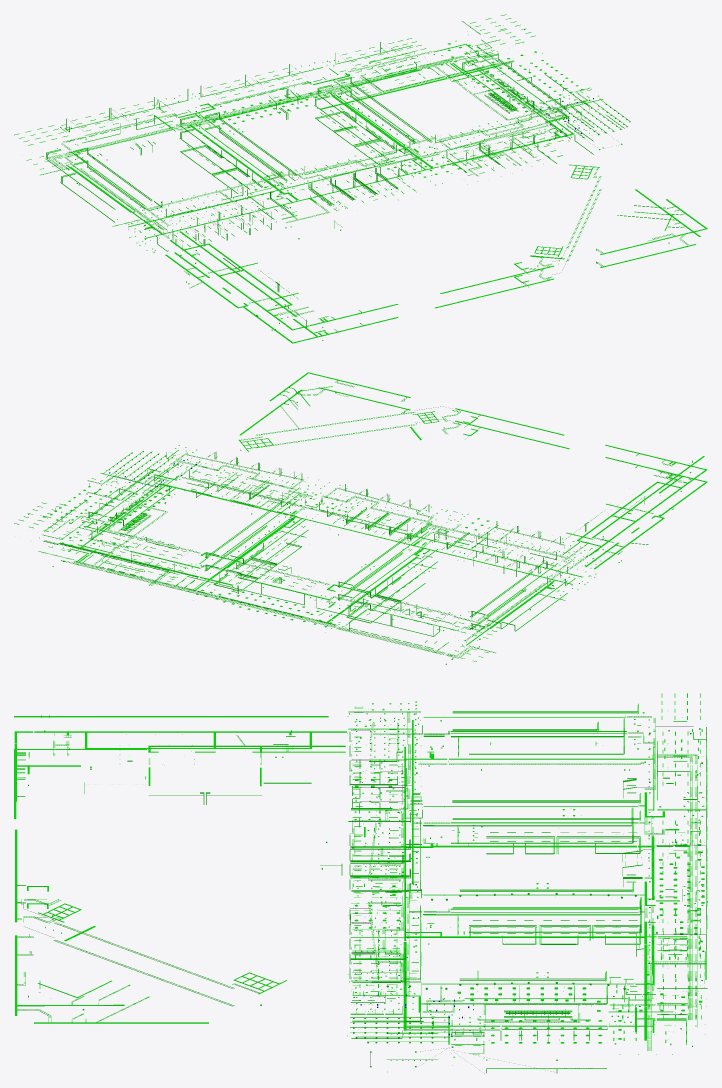
The picture shows the model from 3 angles, top to bottom: view 1: azimuth 30°, elevation 25°; view 2: azimuth 150°, elevation 25°; view 3: azimuth 270°, elevation 25°; orthographic projection. The views are drawn at different scales.
Parts seen in each view (by area): view 1: no part large enough to name; view 2: no part large enough to name; view 3: 3N7Ql70NjB$xeUSQfv5JM5, 1iAllVJ1z1bxqSP9tZuePz, 3mVqbiFq1AQehU05HwGwJ2.
Boxes of the visible parts, bbox=[...] form: 3N7Ql70NjB$xeUSQfv5JM5: bbox=[14, 716, 328, 717]; 1iAllVJ1z1bxqSP9tZuePz: bbox=[34, 731, 346, 732]; 3mVqbiFq1AQehU05HwGwJ2: bbox=[433, 845, 636, 847].
Bounding box in the file's own units: 133 × 11.55 × 119.
